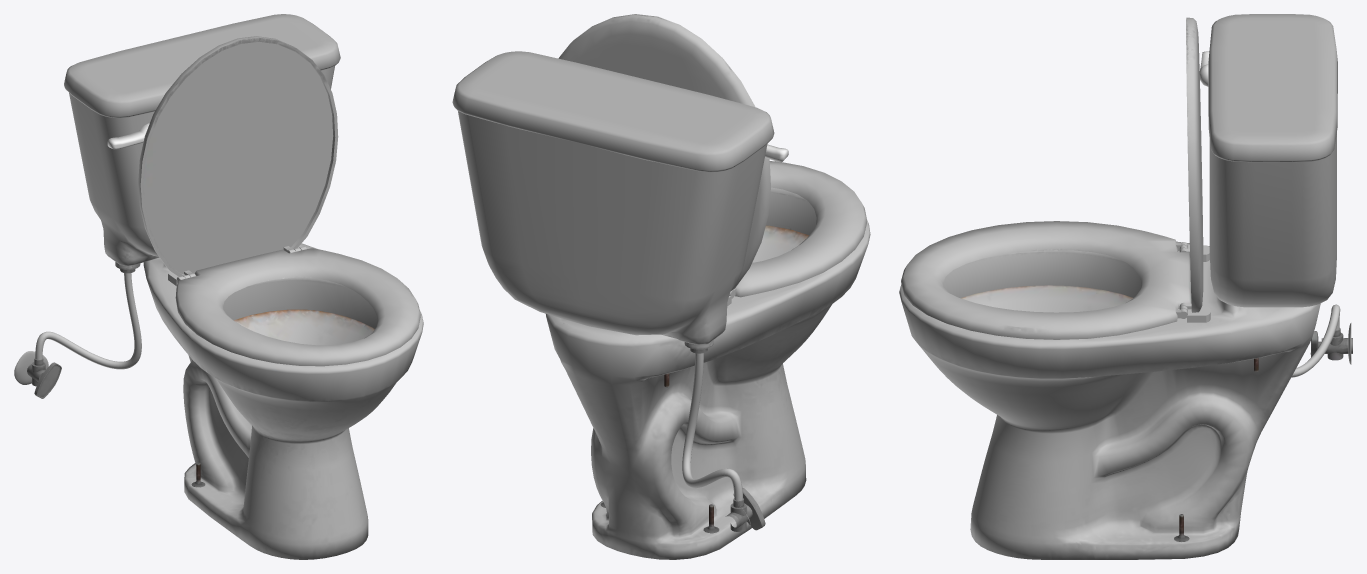
File: v_toilet.glb
3 renders of one model, left to right at view 1: azimuth 30°, elevation 25°; view 2: azimuth 150°, elevation 25°; view 3: azimuth 270°, elevation 25°, orthographic. The views are drawn at different scales.
Parts seen in each view (by area): view 1: Toilet_Toilet_0; view 2: Toilet_Toilet_0; view 3: Toilet_Toilet_0.
Boxes of the visible parts, x1,y1,x2,y2 form: Toilet_Toilet_0: (14, 14, 423, 559); Toilet_Toilet_0: (452, 14, 870, 559); Toilet_Toilet_0: (899, 14, 1352, 559).
Bounding box in the file's own units: 0.4783 × 0.7435 × 0.607.
Materials: 1 (1 with a texture image).
